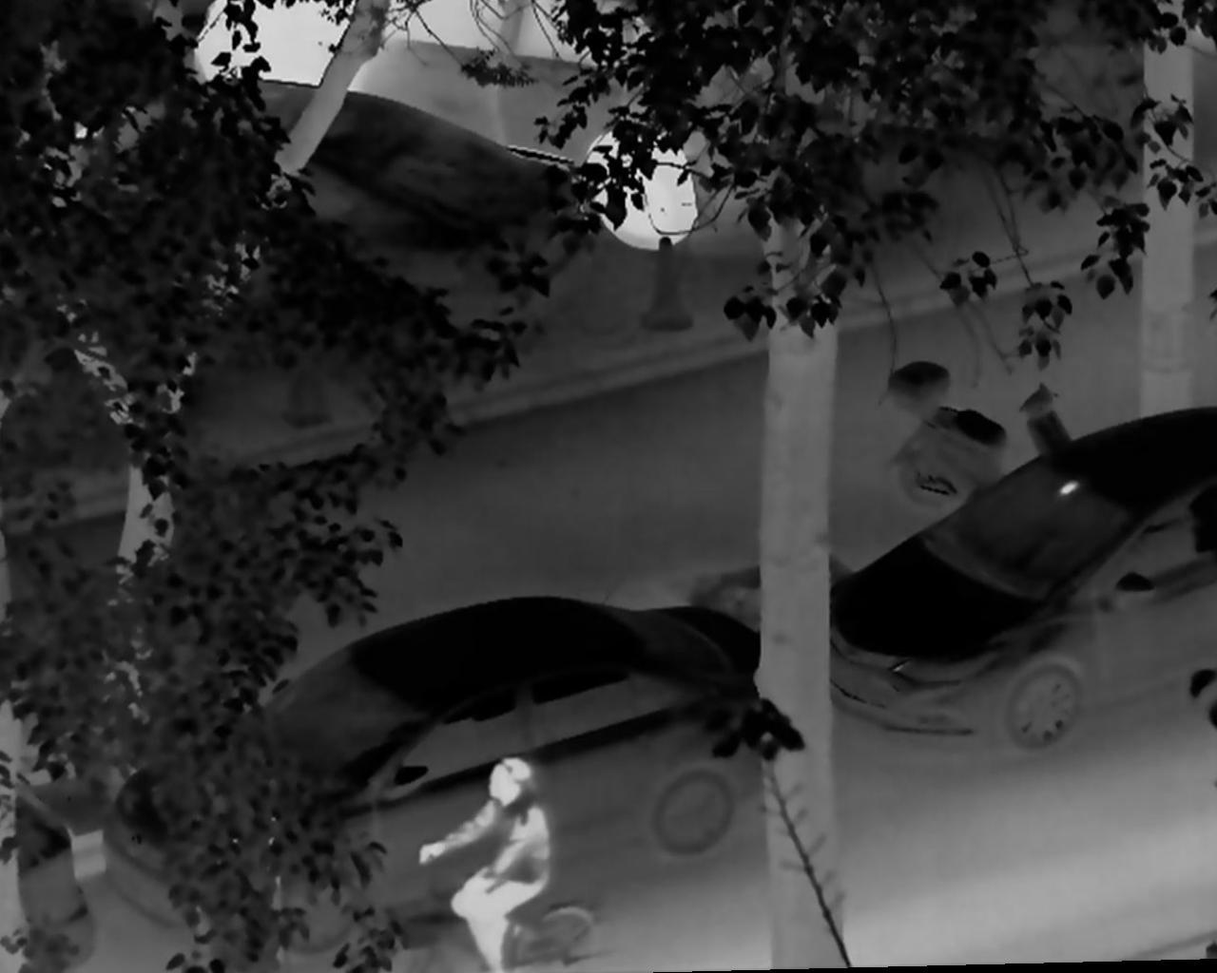person: (415, 755, 551, 973)
